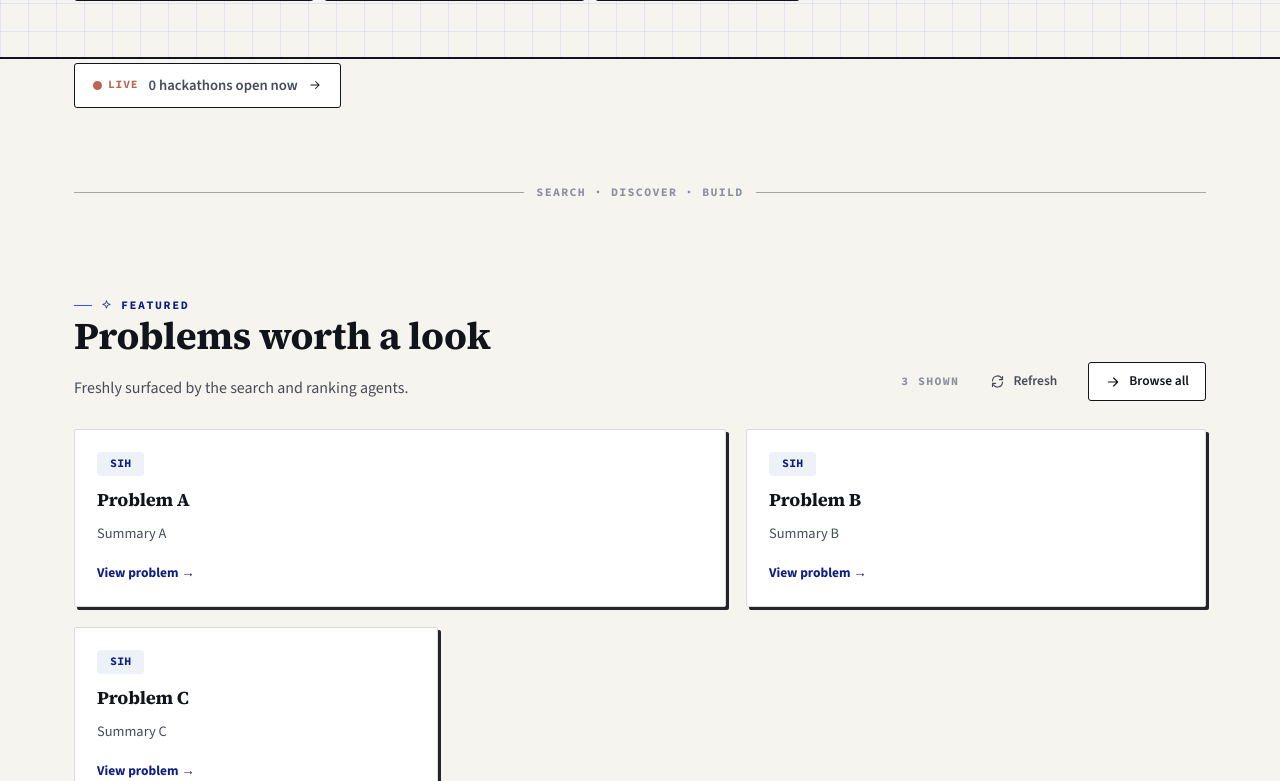
Scenario: Home — Featured Refresh › swaps in a genuinely random sample via GET /problems/random, not the fixed RAG query
(page scrolled)
Expected: the heading "Problem A" is shown, x1=97 y1=486 x2=190 y2=512
Click the button "Refresh".
click(1024, 382)  # box x1=973 y1=362 x2=1074 y2=401
(page scrolled)
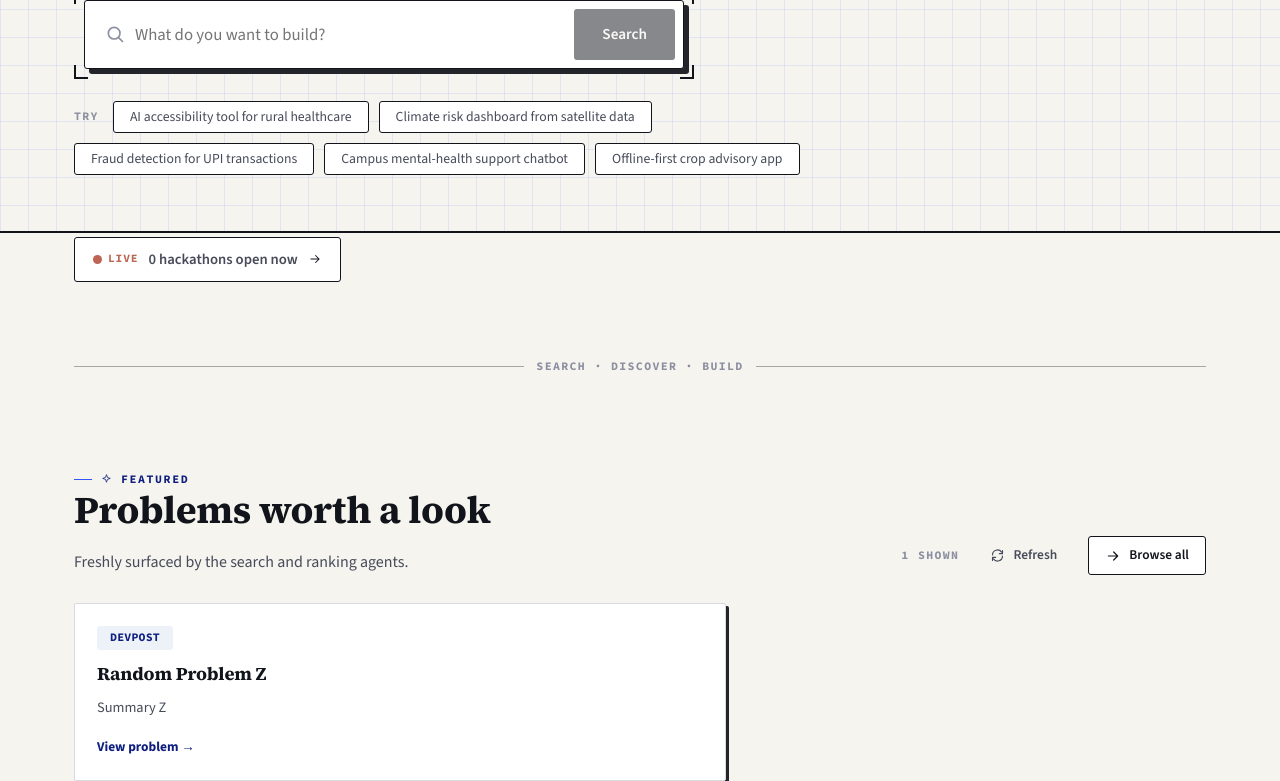
Result: the heading "Random Problem Z" is shown at x1=97 y1=660 x2=266 y2=686
